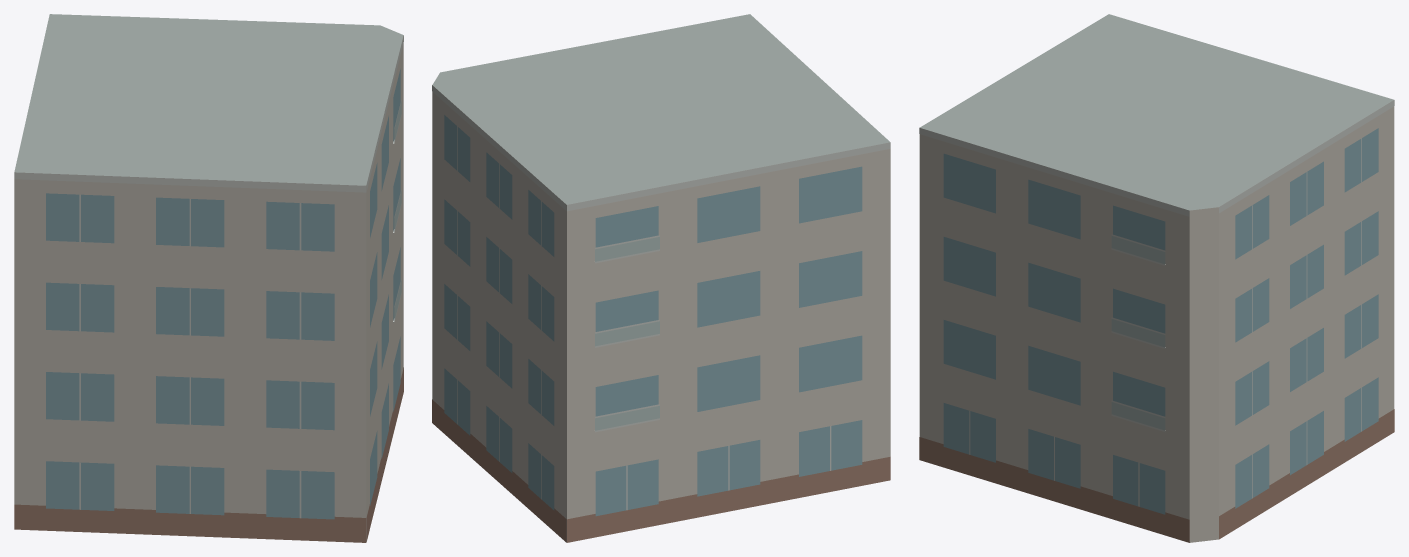
The model's file is survey-upis-32932244.glb.
3 views of the same model, side by side, from view 1: azimuth 30°, elevation 25°; view 2: azimuth 150°, elevation 25°; view 3: azimuth 270°, elevation 25° (orthographic). The views are drawn at different scales.
Visible parts, largest first — view 1: survey-upis-32932244.tmp; view 2: survey-upis-32932244.tmp; view 3: survey-upis-32932244.tmp.
Boxes of the visible parts, <box> form: survey-upis-32932244.tmp: <box>14,14,403,542</box>; survey-upis-32932244.tmp: <box>432,14,890,542</box>; survey-upis-32932244.tmp: <box>919,14,1394,542</box>.
Bounding box in the file's own units: 16.24 × 12.8 × 16.59.
